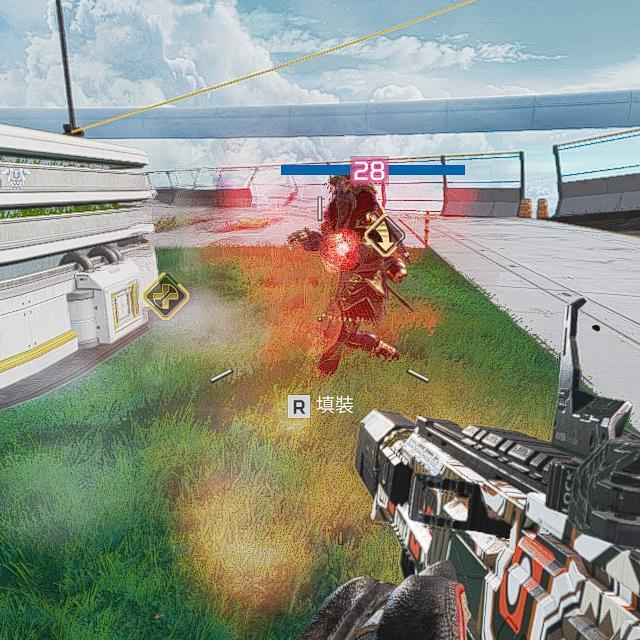avatar: (284, 168, 412, 382)
object: (317, 226, 362, 272)
